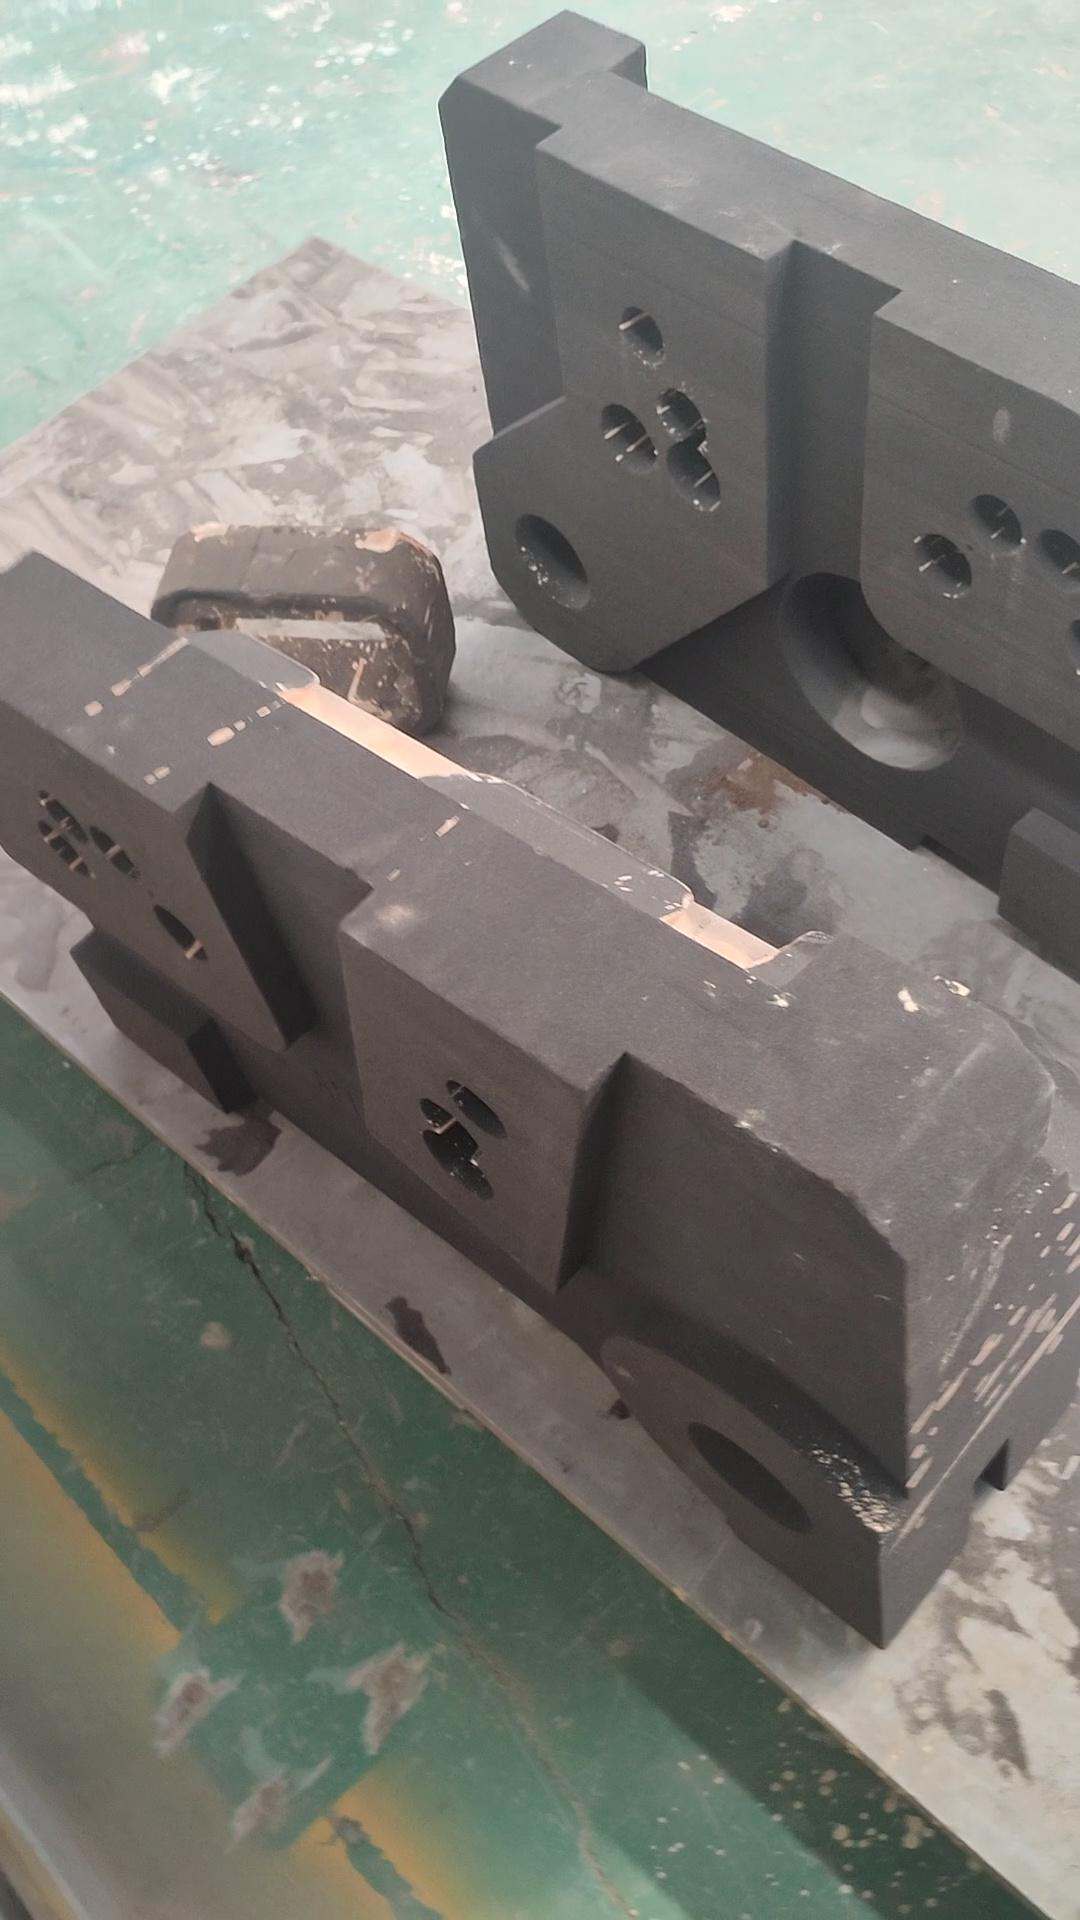pouring hole: (688, 1419, 808, 1536), (512, 514, 589, 609)
